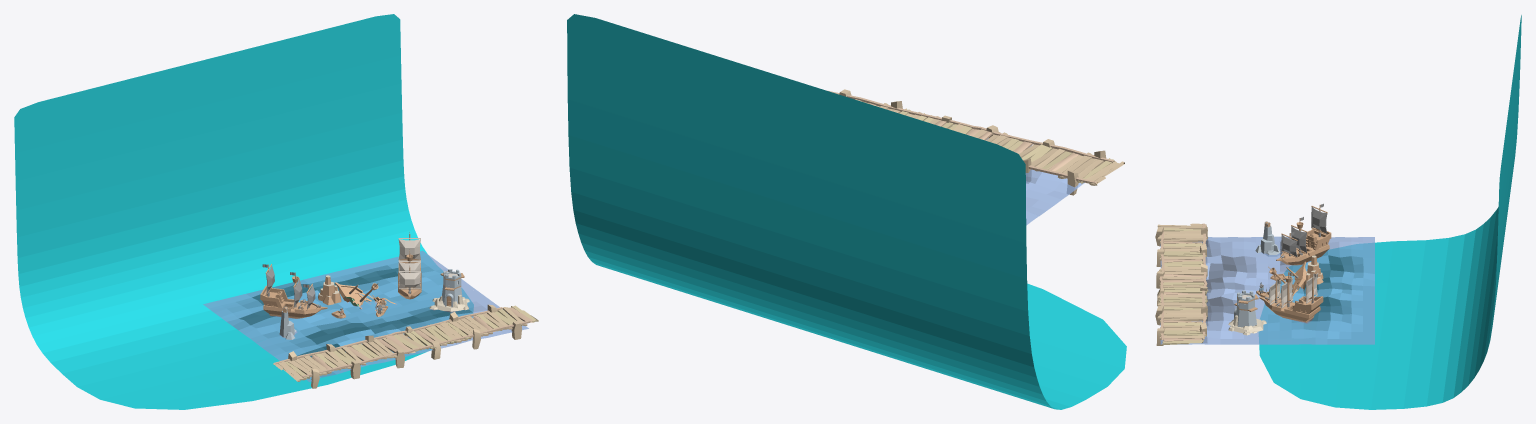
Rendered from mapaPirata.fbx.
The picture shows the model from 3 angles, left to right: view 1: azimuth 30°, elevation 25°; view 2: azimuth 150°, elevation 25°; view 3: azimuth 270°, elevation 25°; orthographic projection. The views are drawn at different scales.
Parts seen in each view (by area): view 1: Plane, Sahne2, Boat_Dock2, steering, tower, ship_wreck_8angles; view 2: Plane, Boat_Dock2, Sahne2; view 3: Plane, Sahne2, Boat_Dock2, steering, ship_light_8angles, tower, formationLarge_stone, ship_wreck_8angles.
Part boxes in pixels (x1,y1,x2,y2): Plane: (14, 14, 473, 409); Sahne2: (203, 250, 528, 381); Boat_Dock2: (273, 304, 538, 388); steering: (260, 264, 327, 318); tower: (438, 269, 465, 308); ship_wreck_8angles: (335, 282, 396, 311); Plane: (567, 14, 1126, 409); Boat_Dock2: (827, 89, 1124, 195); Sahne2: (986, 138, 1084, 225); Plane: (1259, 15, 1521, 409); Sahne2: (1160, 236, 1374, 344); Boat_Dock2: (1155, 223, 1208, 345); steering: (1276, 203, 1331, 265); ship_light_8angles: (1259, 272, 1323, 323); tower: (1228, 290, 1258, 330); formationLarge_stone: (1255, 226, 1280, 256); ship_wreck_8angles: (1268, 261, 1306, 297).
Size of the model in its own units: 3638 by 2272 by 3053.
